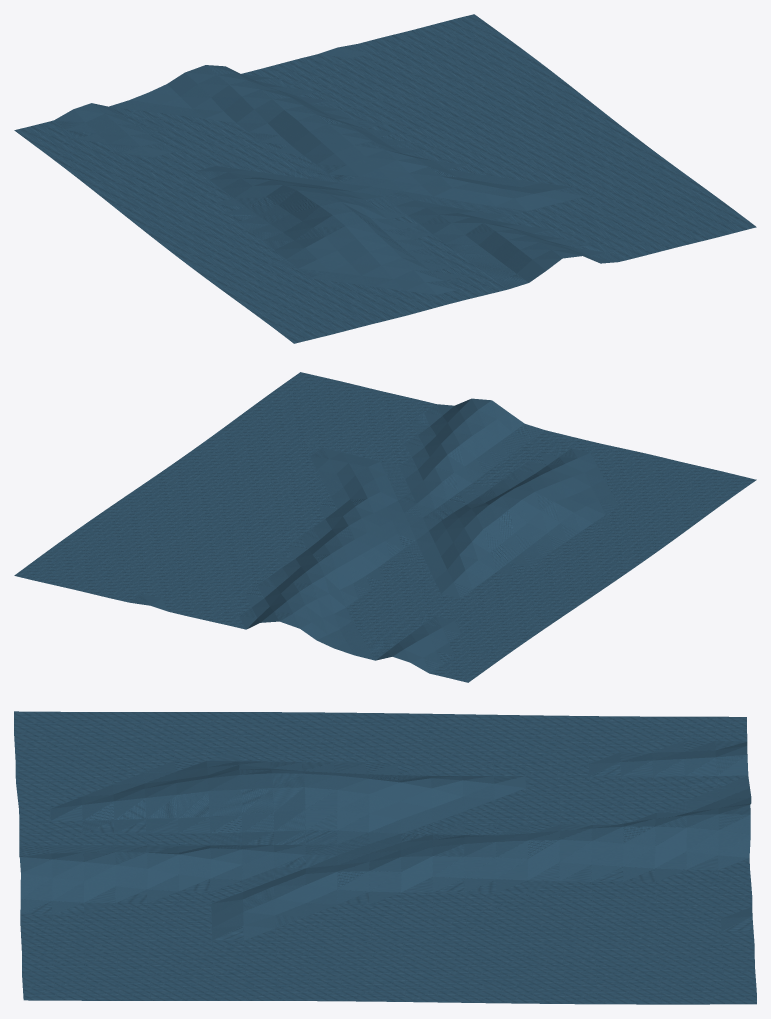
Rendered from task-10.glb.
3 views of the same model, one above another, from view 1: azimuth 30°, elevation 25°; view 2: azimuth 150°, elevation 25°; view 3: azimuth 270°, elevation 25° (orthographic). The views are drawn at different scales.
Parts seen in each view (by area): view 1: cloth__1; view 2: cloth__1; view 3: cloth__1.
Part boxes in pixels (x1=…): cloth__1: x1=14, y1=14, x2=756, y2=343; cloth__1: x1=14, y1=372, x2=756, y2=682; cloth__1: x1=14, y1=711, x2=756, y2=1004.
Size of the model in its own units: 0.2752 by 0.011 by 0.2949.
1 material, 1 textured.
